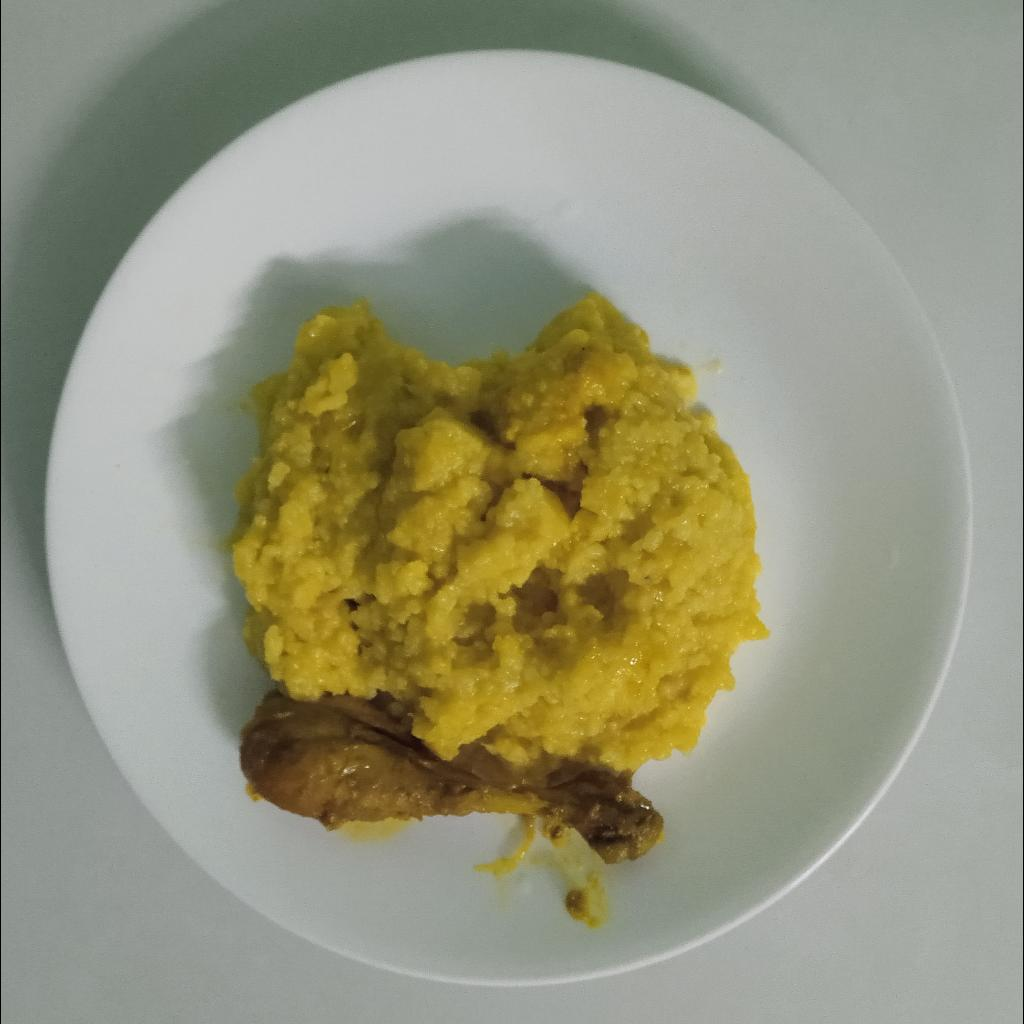chicken: (237, 702, 664, 868)
khichuri: (226, 288, 771, 777)
